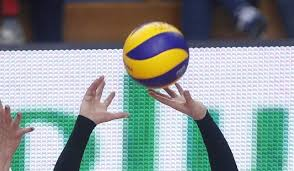ball: (121, 21, 189, 89)
